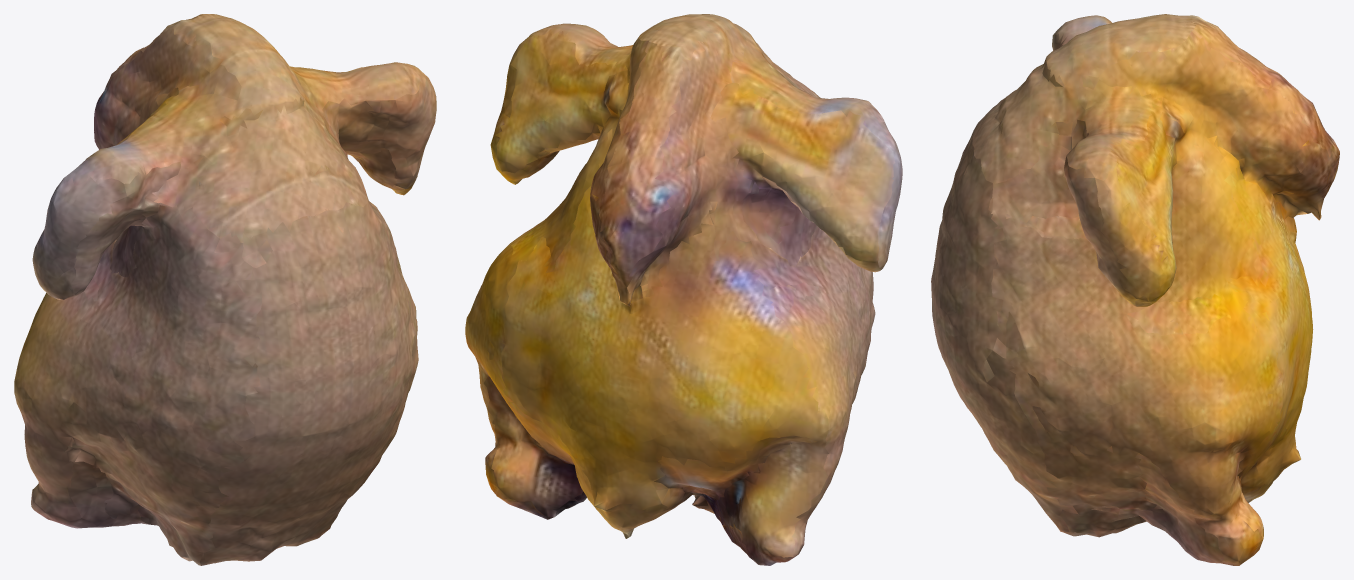
3 views of the same model, side by side, from view 1: azimuth 30°, elevation 25°; view 2: azimuth 150°, elevation 25°; view 3: azimuth 270°, elevation 25° (orthographic).
Parts seen in each view (by area): view 1: world; view 2: world; view 3: world.
Boxes of the visible parts, bbox=[...] form: world: bbox=[14, 14, 436, 565]; world: bbox=[465, 14, 902, 565]; world: bbox=[931, 14, 1339, 565].
Bounding box in the file's own units: 0.7397 × 0.9272 × 0.6754.
Materials: 1 (1 with a texture image).
